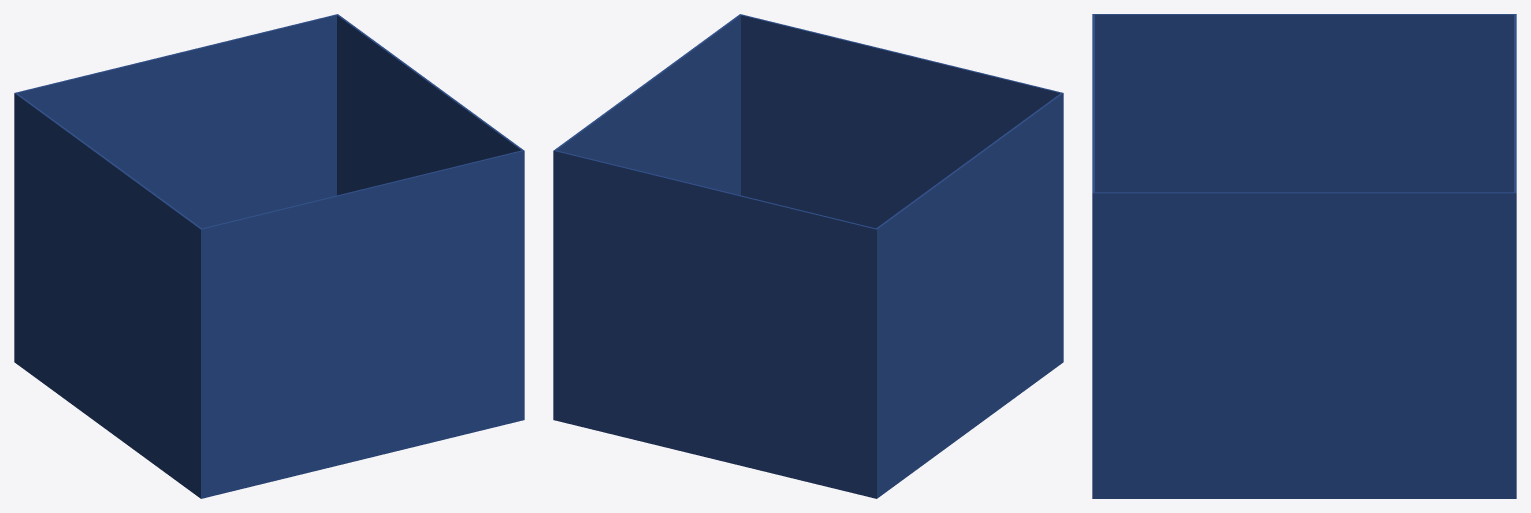
Rendered from pillar_band_blau.glb.
3 views of the same model, side by side, from view 1: azimuth 30°, elevation 25°; view 2: azimuth 150°, elevation 25°; view 3: azimuth 270°, elevation 25° (orthographic). The views are drawn at different scales.
Visible parts, largest first — view 1: s, w, n, o; view 2: n, w, s, o; view 3: o, w, n, s.
Boxes of the visible parts, bbox=[...] form: s: bbox=[200, 150, 524, 498]; w: bbox=[14, 93, 202, 497]; n: bbox=[14, 14, 338, 362]; o: bbox=[337, 14, 524, 401]; n: bbox=[553, 150, 877, 498]; w: bbox=[875, 93, 1063, 498]; s: bbox=[739, 14, 1063, 355]; o: bbox=[553, 14, 741, 396]; o: bbox=[1092, 192, 1516, 498]; w: bbox=[1095, 14, 1516, 192]; n: bbox=[1514, 14, 1516, 498]; s: bbox=[1092, 14, 1094, 498].
Size of the model in its own units: 1.01 by 0.8 by 1.01.
